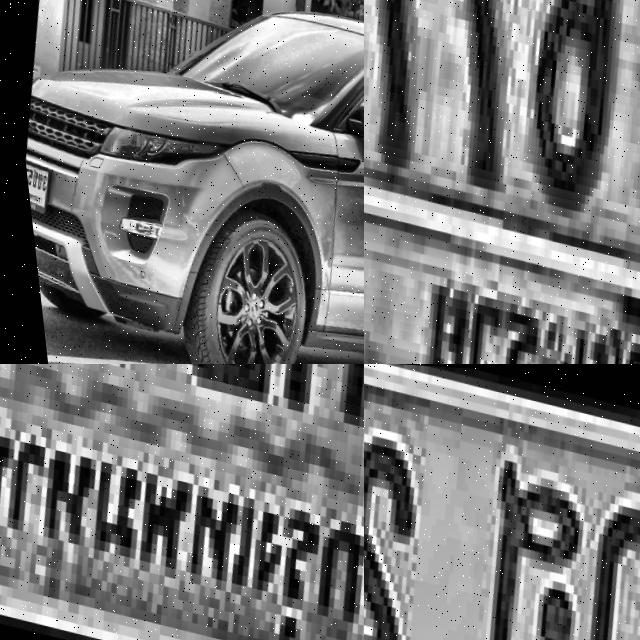license-plate: (364, 0, 640, 364), (0, 364, 364, 640), (364, 364, 640, 640), (18, 156, 49, 217)
